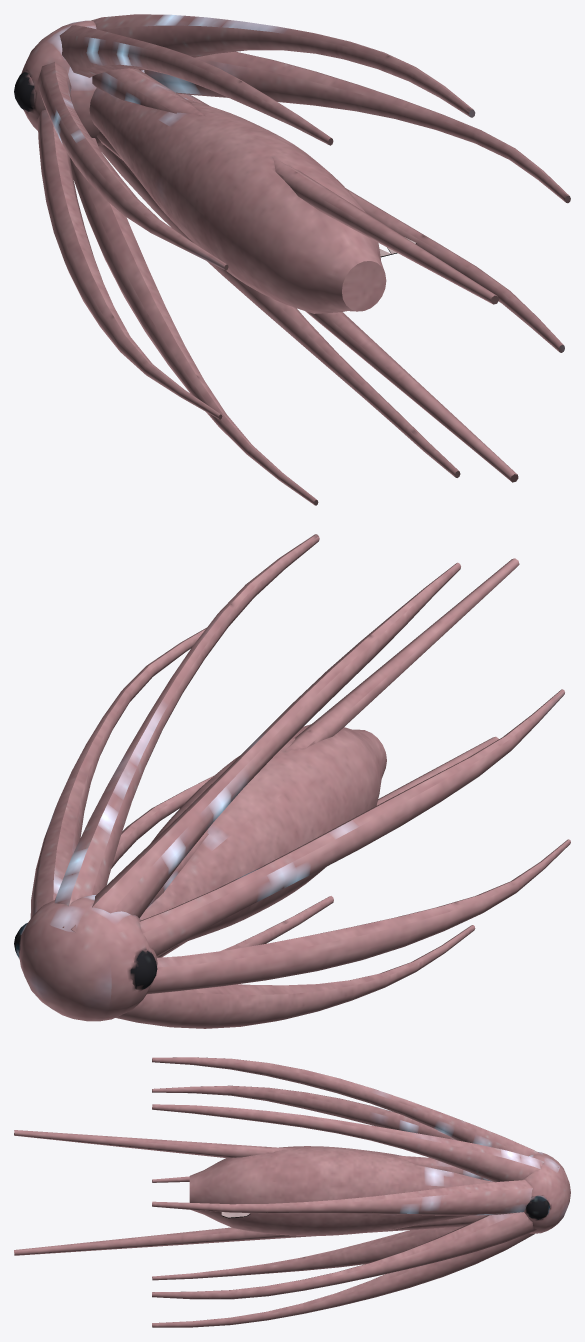
Rendered from architeuthis_dux.glb.
The picture shows the model from 3 angles, top to bottom: view 1: azimuth 30°, elevation 25°; view 2: azimuth 150°, elevation 25°; view 3: azimuth 270°, elevation 25°; orthographic projection. The views are drawn at different scales.
Visible parts, largest first — view 1: architeuthis_dux; view 2: architeuthis_dux; view 3: architeuthis_dux.
Boxes of the visible parts, x1,y1,x2,y2 form: architeuthis_dux: (14,14,570,505); architeuthis_dux: (14,534,570,1028); architeuthis_dux: (14,1057,570,1327).
Bounding box in the file's own units: 1.51 × 1.43 × 3.12.
2 materials, 2 textured.
